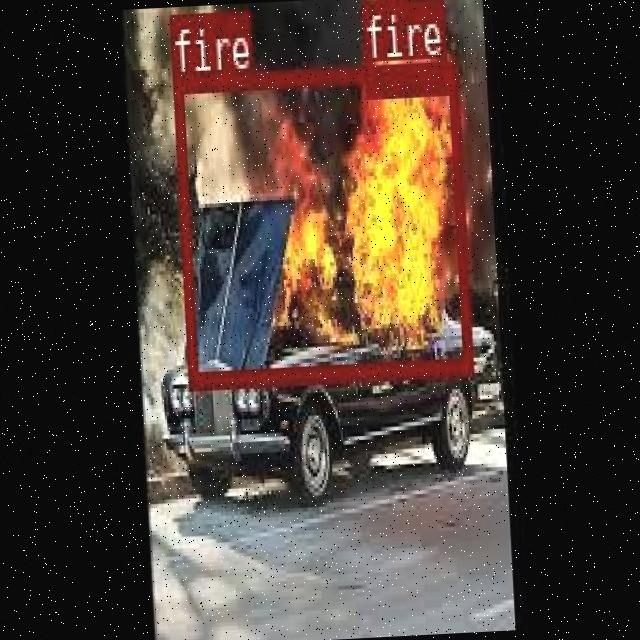fire: (170, 61, 470, 384), (360, 0, 445, 95)
